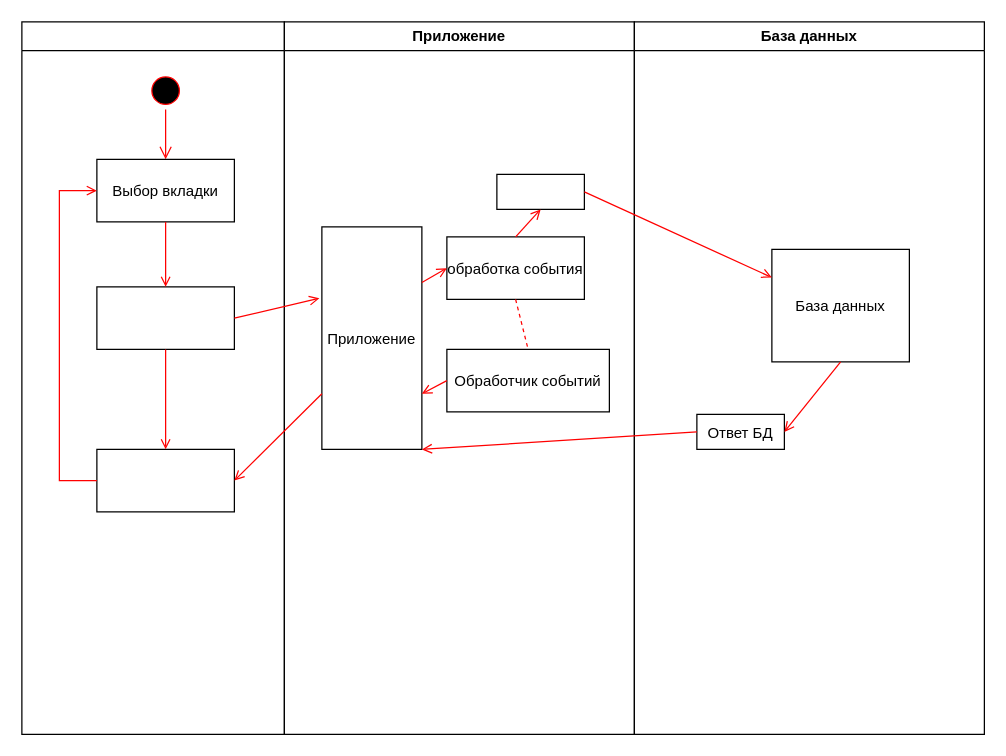
Some shapes in this 1006 by 756 pixel diagram are drawn without their labels. The box of each missing label's shape, as (x1, y1, x2, y2) in pixels:
Действие: (96, 286, 234, 349)
запрос к бд: (496, 173, 584, 209)
Ответ программы: (96, 448, 234, 512)
Пользователь: (21, 21, 284, 734)
